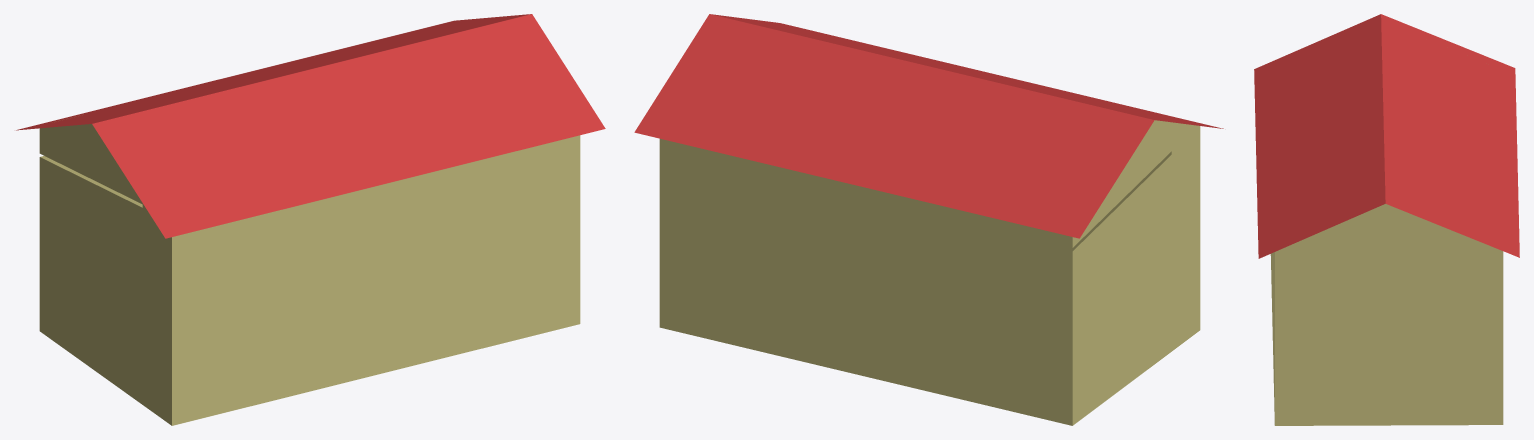
3 renders of one model, left to right at view 1: azimuth 30°, elevation 25°; view 2: azimuth 150°, elevation 25°; view 3: azimuth 270°, elevation 25°, orthographic. The views are drawn at different scales.
Size of the model in its own units: 13.8 by 8.12 by 7.7.
